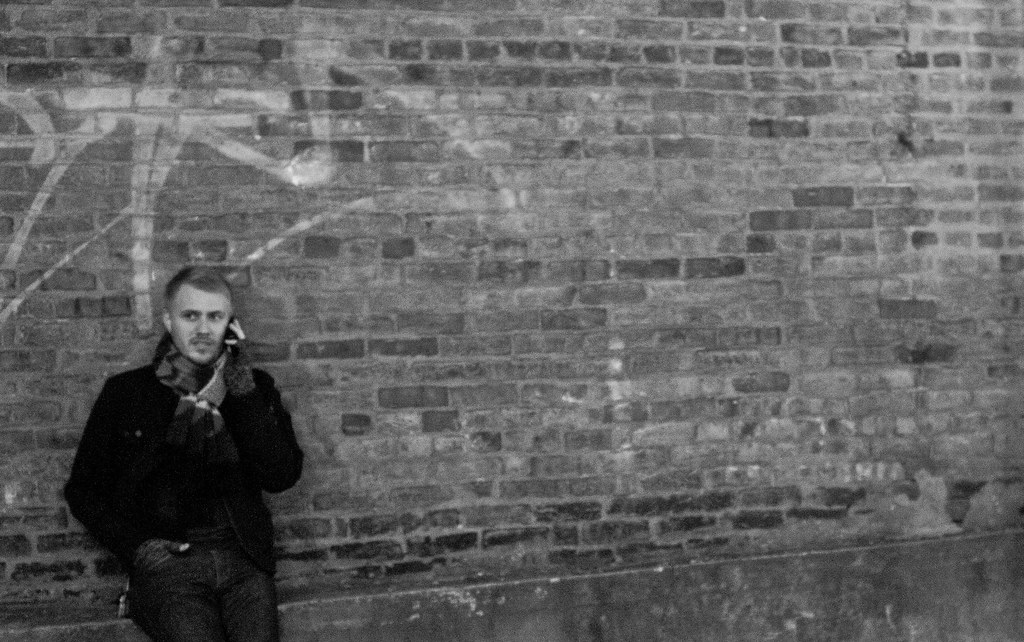phone: (223, 309, 251, 356)
talk: (171, 302, 258, 378)
